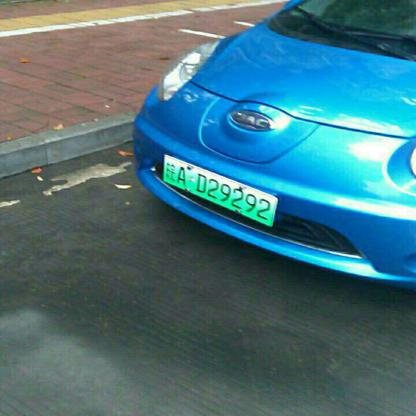lp: (162, 156, 278, 223)
